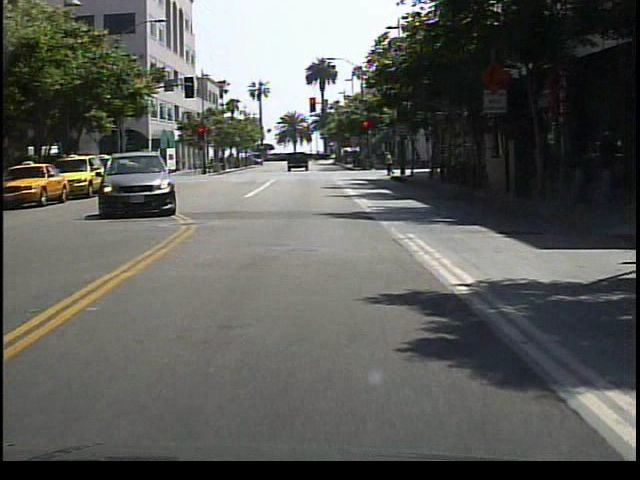person: (412, 144, 427, 174), (385, 150, 400, 176)
